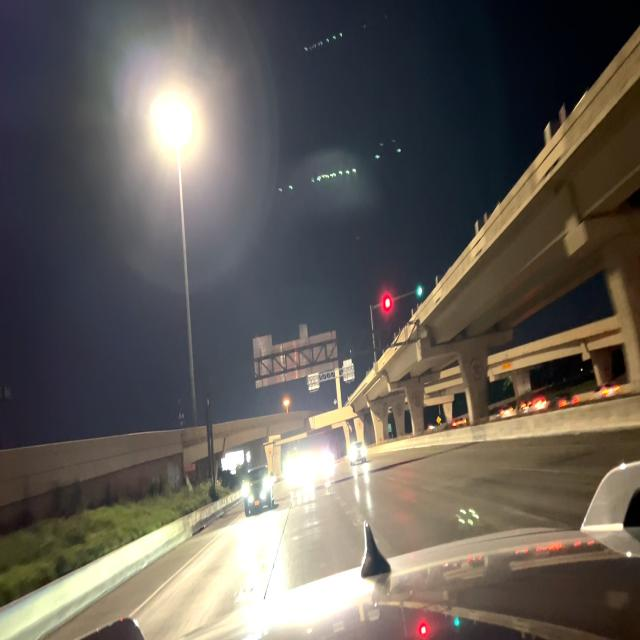back-of-sign: (252, 325, 339, 387)
